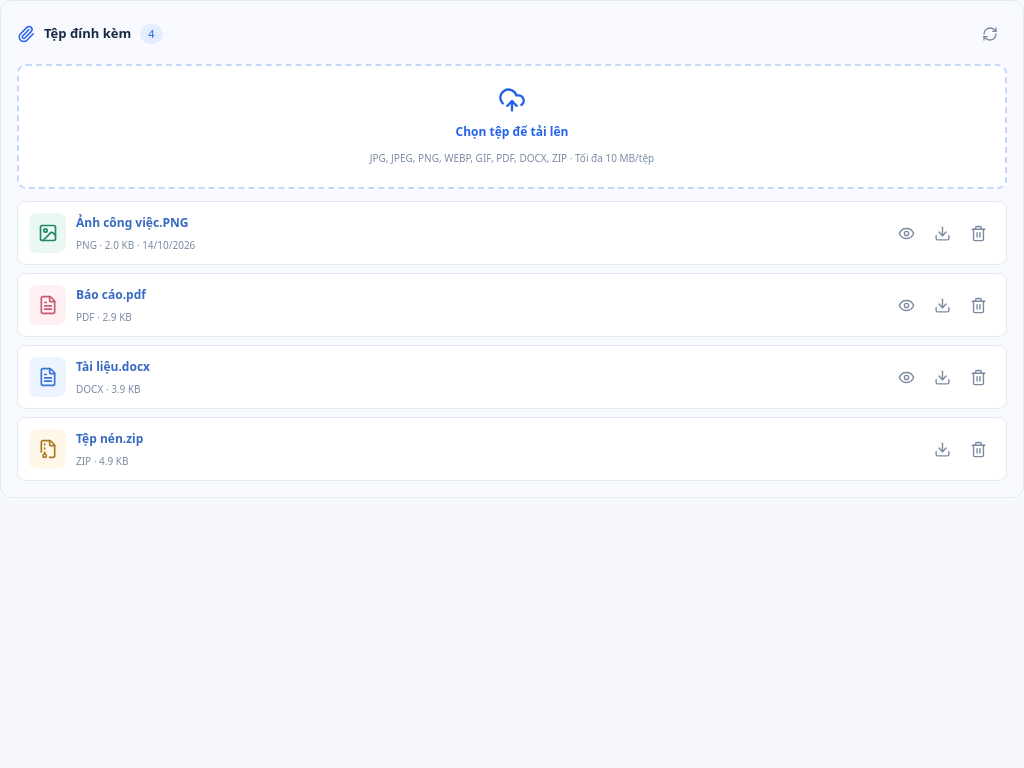
Test: Task attachment management › rejects active content returned for a supported filename
Expected: the file field named "Chọn tệp đính kèm" is enabled, [0,85,1023,127]
Step 1. Click the button named "Xem Báo cáo.pdf" → (906,305), box [889,288,923,322]
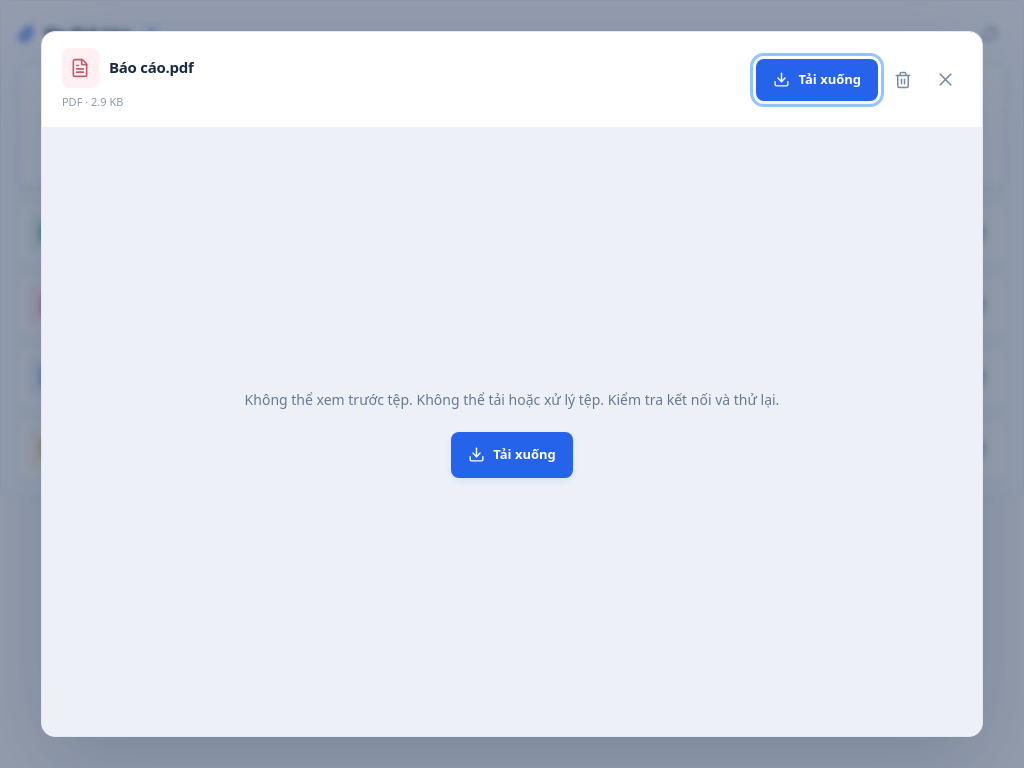
Expected: the message shows "Không thể xem trước", [245,390,779,409]
